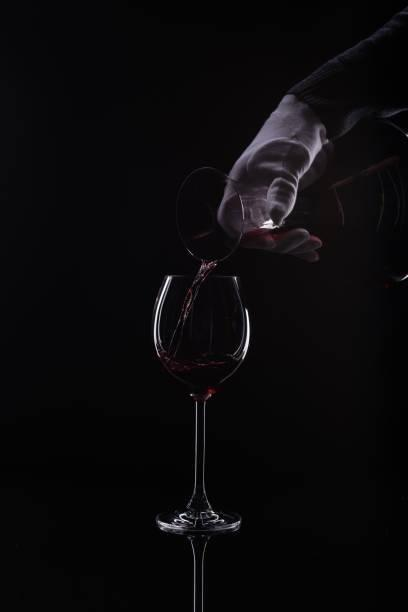glass-wine: (150, 271, 251, 535)
